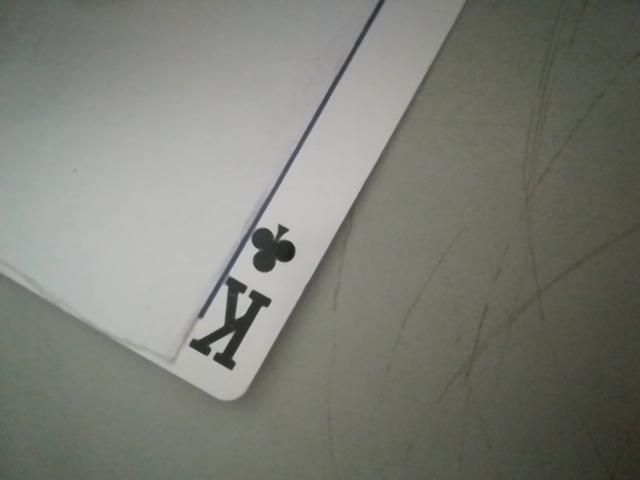mh k: (184, 216, 310, 385)
